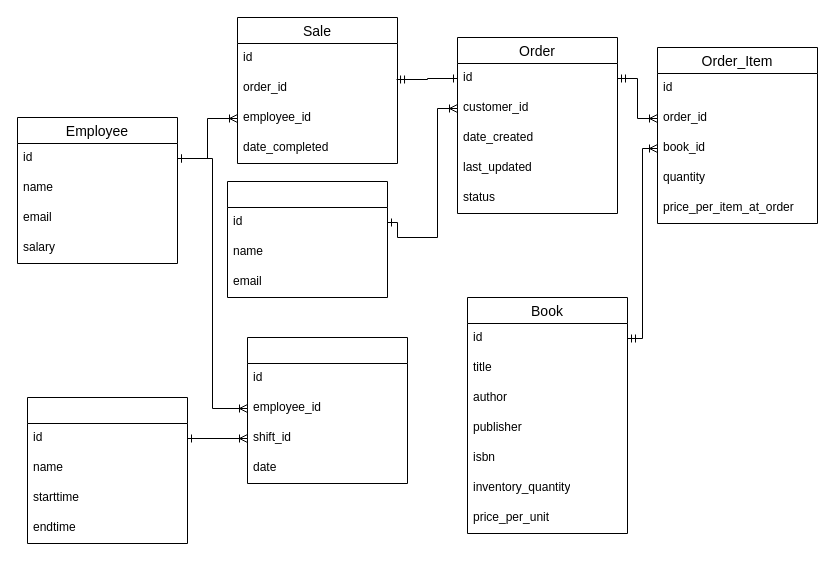
The diagram is 835 pixels wide and 564 high, and some of its shapes have lost their labels. Each missing label, with the box of its shape:
Customer: (226, 180, 388, 298)
Employee_Shift: (246, 336, 408, 484)
Shift: (26, 396, 188, 544)
